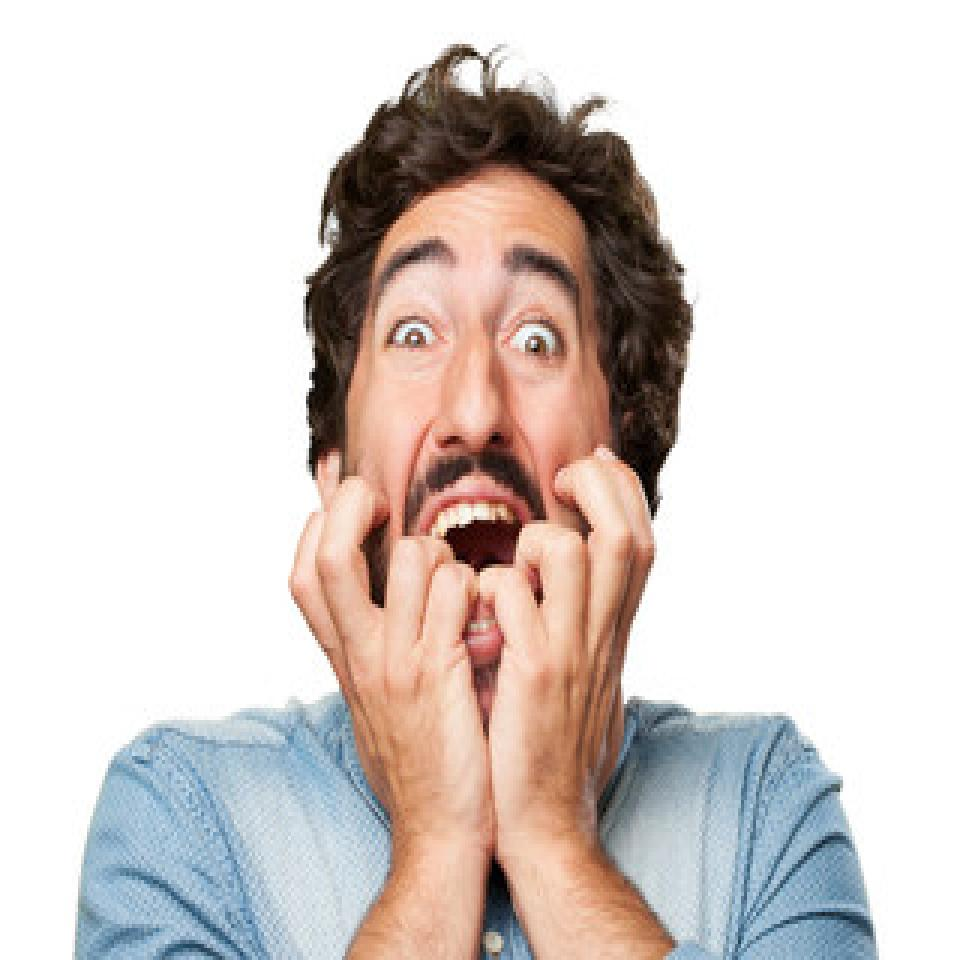Scared: (344, 178, 654, 784)
